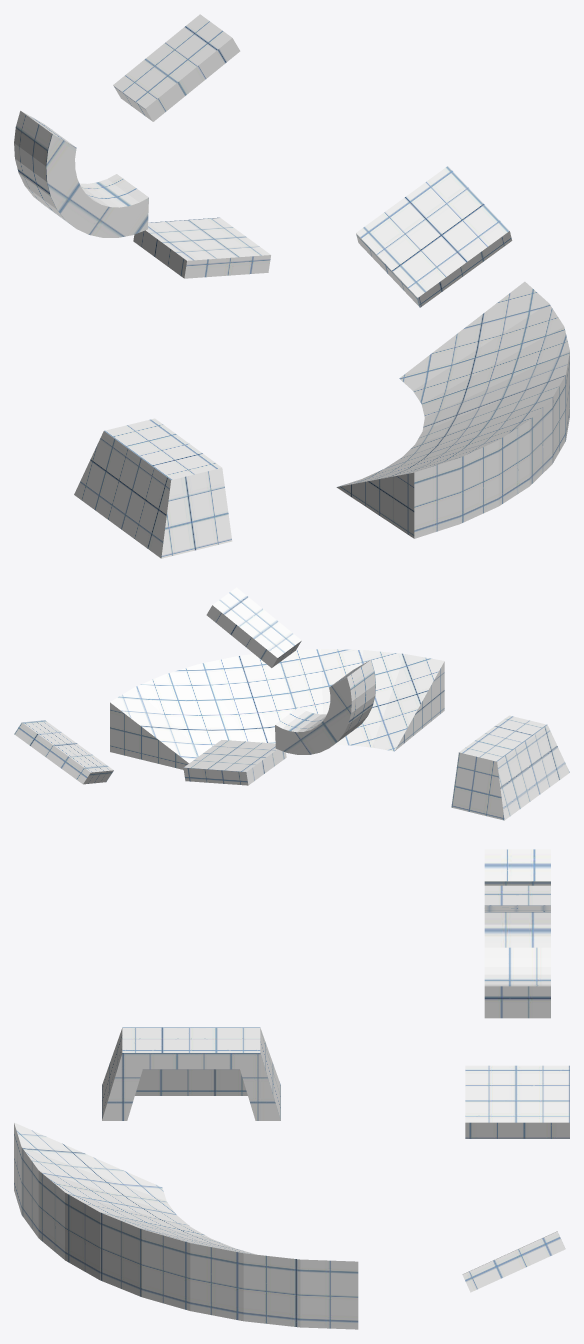
Rendered from MeshColliderDemo_.fbx.
3 renders of one model, top to bottom at view 1: azimuth 30°, elevation 25°; view 2: azimuth 150°, elevation 25°; view 3: azimuth 270°, elevation 25°, orthographic. The views are drawn at different scales.
Visible parts, largest first — view 1: Cube.103, Cube.001, MarbleCourse.003, MarbleCourse, MarbleCourse.002, MarbleCourse.001; view 2: Cube.103, Cube.001, MarbleCourse, MarbleCourse.002, MarbleCourse.001, MarbleCourse.003; view 3: Cube.103, Cube.001, MarbleCourse, MarbleCourse.001, MarbleCourse.003, MarbleCourse.002.
Part boxes in pixels (x1=…): Cube.103: x1=336, y1=281, x2=569, y2=538; Cube.001: x1=74, y1=418, x2=232, y2=558; MarbleCourse.003: x1=356, y1=166, x2=512, y2=307; MarbleCourse: x1=14, y1=110, x2=148, y2=237; MarbleCourse.002: x1=113, y1=14, x2=240, y2=121; MarbleCourse.001: x1=133, y1=217, x2=270, y2=278; Cube.103: x1=110, y1=649, x2=444, y2=769; Cube.001: x1=451, y1=715, x2=569, y2=820; MarbleCourse: x1=275, y1=660, x2=375, y2=754; MarbleCourse.002: x1=206, y1=587, x2=301, y2=667; MarbleCourse.001: x1=183, y1=740, x2=286, y2=785; MarbleCourse.003: x1=14, y1=720, x2=113, y2=784; Cube.103: x1=14, y1=1122, x2=358, y2=1329; Cube.001: x1=102, y1=1027, x2=280, y2=1120; MarbleCourse: x1=484, y1=849, x2=550, y2=1018; MarbleCourse.001: x1=465, y1=1065, x2=569, y2=1138; MarbleCourse.003: x1=462, y1=1231, x2=565, y2=1292; MarbleCourse.002: x1=484, y1=885, x2=550, y2=912.
Size of what is drawn, in the model's own units: 7.17 by 4.14 by 6.35.
